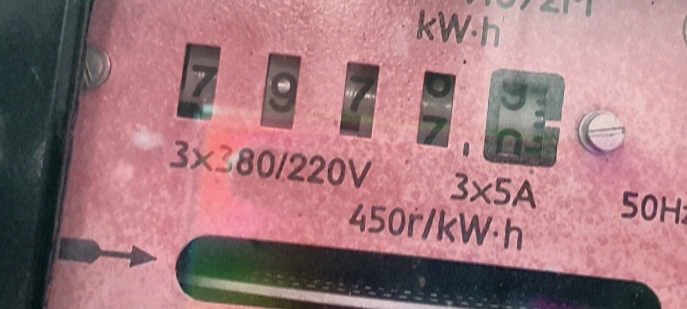0: (489, 121, 525, 162)
7: (341, 71, 376, 116), (183, 59, 217, 104), (415, 111, 448, 149)
9: (262, 67, 299, 115), (495, 74, 529, 112)
screen: (152, 18, 590, 192)
